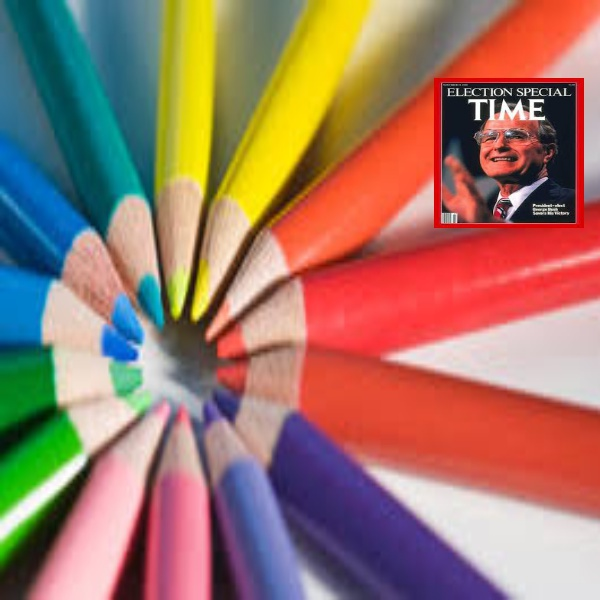time_cover: (439, 74, 585, 222)
